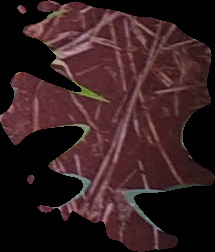soil: (2, 2, 214, 252)
